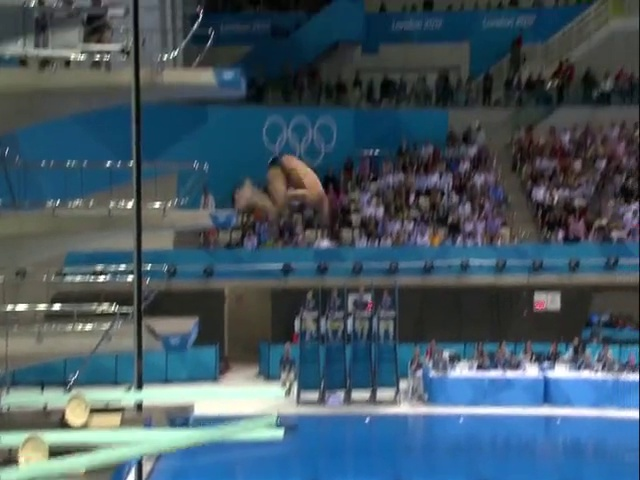diver: (234, 154, 339, 225)
